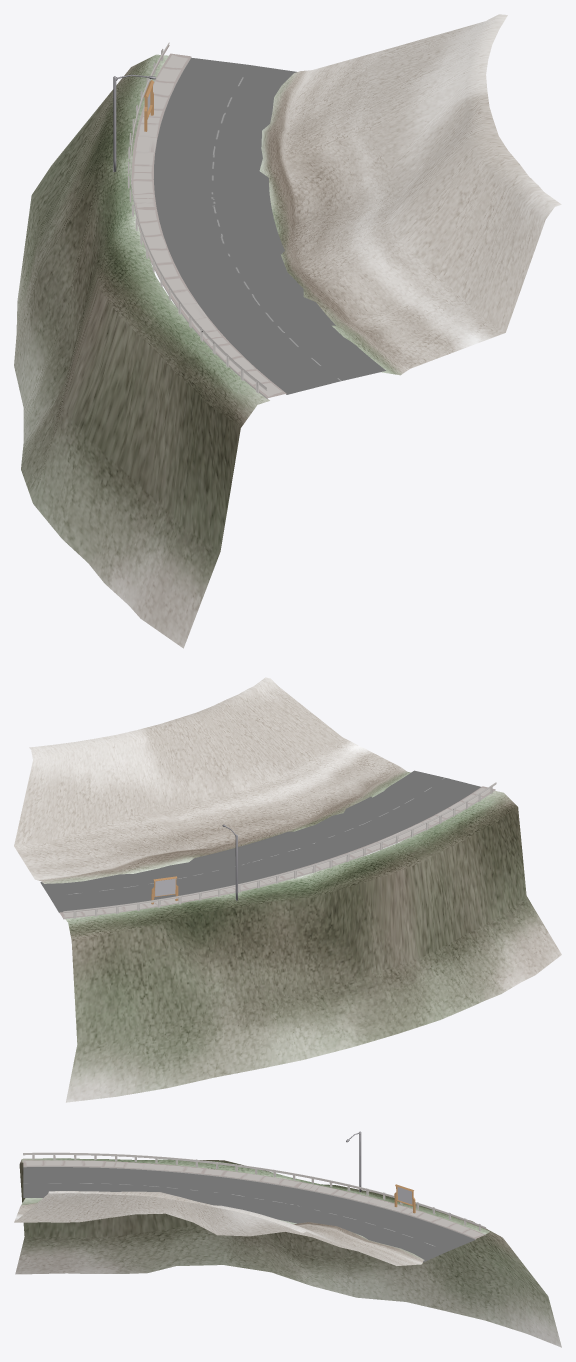
The model's file is highway_second.glb.
3 renders of one model, top to bottom at view 1: azimuth 30°, elevation 25°; view 2: azimuth 150°, elevation 25°; view 3: azimuth 270°, elevation 25°, orthographic. The views are drawn at different scales.
Visible parts, largest first — view 1: lower land, road; view 2: lower land, road; view 3: lower land, road, signboard.
Part boxes in pixels (x1,y1,x2,y2): lower land: (14,14,561,648); road: (128,42,385,399); lower land: (14,677,561,1102); road: (40,770,496,919); lower land: (14,1158,561,1347); road: (23,1152,486,1262); signboard: (394,1184,415,1213).
Bounding box in the file's own units: 41.06 × 23.67 × 55.46.
4 materials, 4 textured.
